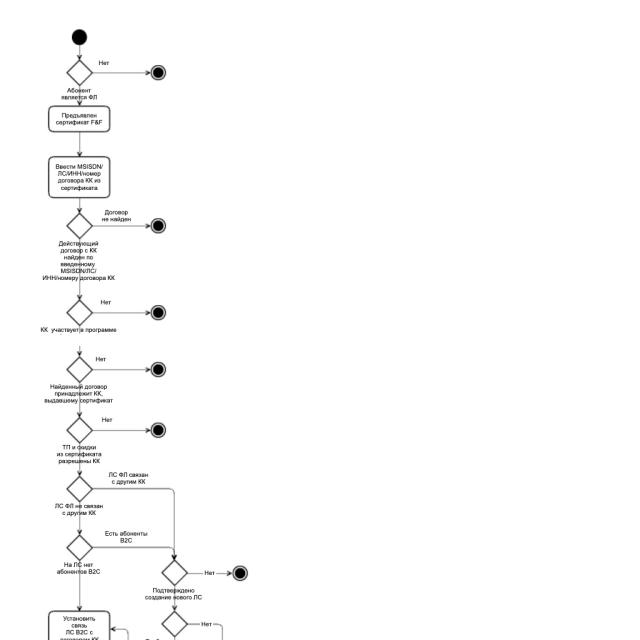arrow: (94, 487, 176, 559), (78, 239, 82, 300), (93, 224, 150, 228), (76, 384, 83, 416), (112, 627, 129, 639), (93, 429, 150, 432), (94, 311, 150, 314), (94, 71, 150, 74), (94, 368, 149, 371), (77, 444, 82, 476), (77, 502, 82, 534), (77, 326, 82, 357), (77, 85, 83, 106), (77, 132, 82, 156), (78, 570, 81, 610), (77, 44, 82, 60), (78, 199, 81, 213)
circle: (232, 566, 248, 581), (151, 423, 166, 438), (72, 30, 87, 45), (151, 305, 166, 319), (150, 362, 165, 376), (151, 219, 166, 233), (151, 65, 166, 79)
diamond: (67, 476, 92, 502), (67, 300, 92, 326), (162, 560, 187, 585), (67, 60, 92, 85), (67, 418, 92, 443), (67, 357, 92, 382), (67, 535, 92, 560), (67, 214, 92, 238), (163, 612, 187, 636)
rectangle: (49, 157, 109, 198), (49, 105, 109, 132)
text_region: (42, 240, 116, 283), (43, 382, 113, 403), (143, 585, 205, 601), (55, 443, 102, 464), (56, 502, 104, 517), (39, 326, 118, 334), (56, 562, 100, 576), (60, 86, 98, 102), (100, 208, 136, 224), (108, 472, 149, 486), (105, 530, 148, 543), (98, 56, 110, 68), (200, 619, 212, 628), (204, 570, 217, 578), (100, 298, 112, 306), (100, 417, 114, 423), (94, 356, 108, 362)
